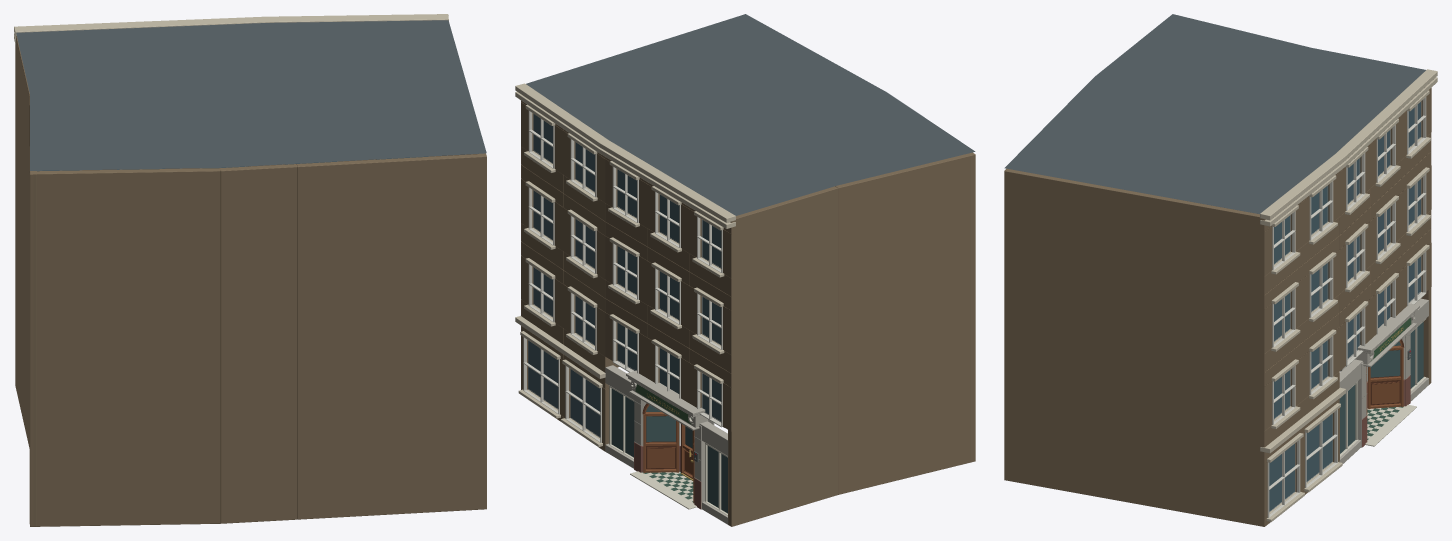
The model's file is lch-exterior-52511c275f3d.glb.
3 views of the same model, side by side, from view 1: azimuth 30°, elevation 25°; view 2: azimuth 150°, elevation 25°; view 3: azimuth 270°, elevation 25° (orthographic). The views are drawn at different scales.
Parts seen in each view (by area): view 1: LCH.001; view 2: LCH.001; view 3: LCH.001.
Boxes of the visible parts, box(x1,y1,x2,y2) form: LCH.001: box(14, 14, 486, 526); LCH.001: box(515, 14, 975, 526); LCH.001: box(1004, 14, 1437, 526).
Bounding box in the file's own units: 18.97 × 13.65 × 17.15.
